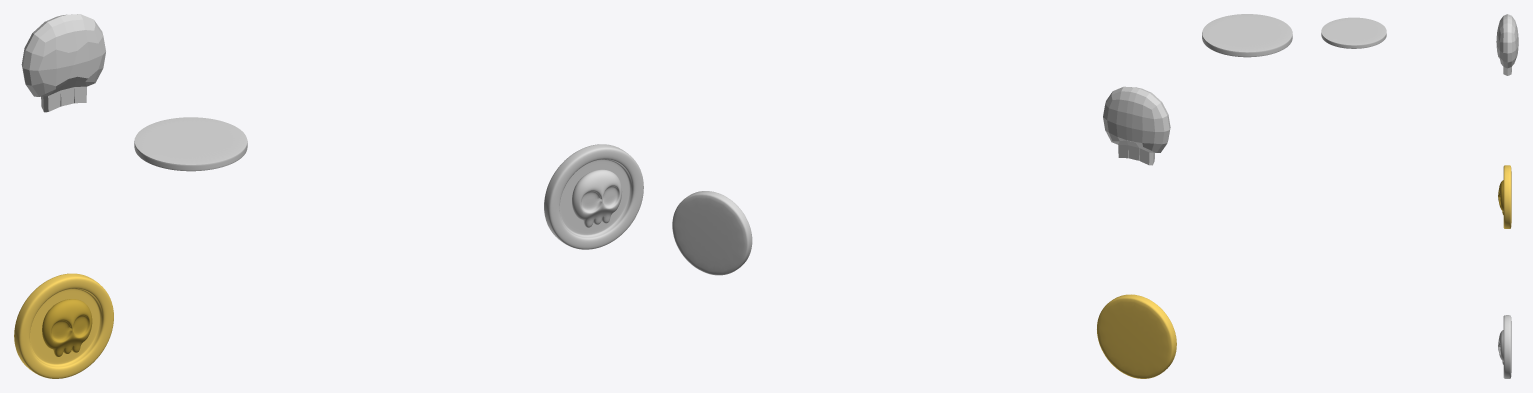
The model's file is CoinSon4.fbx.
3 renders of one model, left to right at view 1: azimuth 30°, elevation 25°; view 2: azimuth 150°, elevation 25°; view 3: azimuth 270°, elevation 25°, orthographic. The views are drawn at different scales.
Visible parts, largest first — view 1: Cube.002, Cylinder.002, Cylinder.001, Cylinder, Cube.001, Cube.003; view 2: Cylinder.001, Cylinder.002, Cube.002, Cylinder; view 3: Cylinder, Cube.002, Cylinder.001, Cylinder.002.
Part boxes in pixels (left/top/right/bottom): Cube.002: left=21, top=14, right=105, bottom=112; Cylinder.002: left=544, top=144, right=643, bottom=249; Cylinder.001: left=14, top=273, right=113, bottom=378; Cylinder: left=134, top=117, right=247, bottom=171; Cube.001: left=42, top=299, right=92, bottom=356; Cube.003: left=572, top=169, right=622, bottom=227; Cylinder.001: left=1097, top=294, right=1176, bottom=378; Cylinder.002: left=672, top=191, right=752, bottom=275; Cube.002: left=1103, top=86, right=1170, bottom=165; Cylinder: left=1202, top=14, right=1292, bottom=57; Cylinder: left=1321, top=17, right=1386, bottom=48; Cube.002: left=1496, top=14, right=1518, bottom=75; Cylinder.001: left=1503, top=165, right=1511, bottom=228; Cylinder.002: left=1503, top=315, right=1511, bottom=378.
Bounding box in the file's own units: 1288 × 702 × 602.
